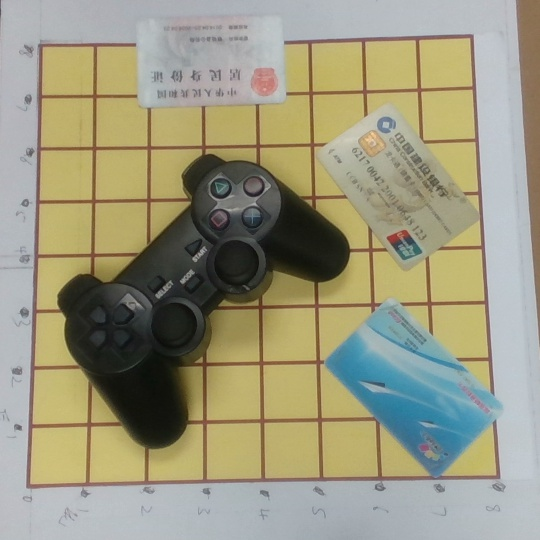card: (322, 294, 502, 475), (316, 104, 478, 273), (130, 14, 287, 112)
remote: (54, 152, 349, 452)
